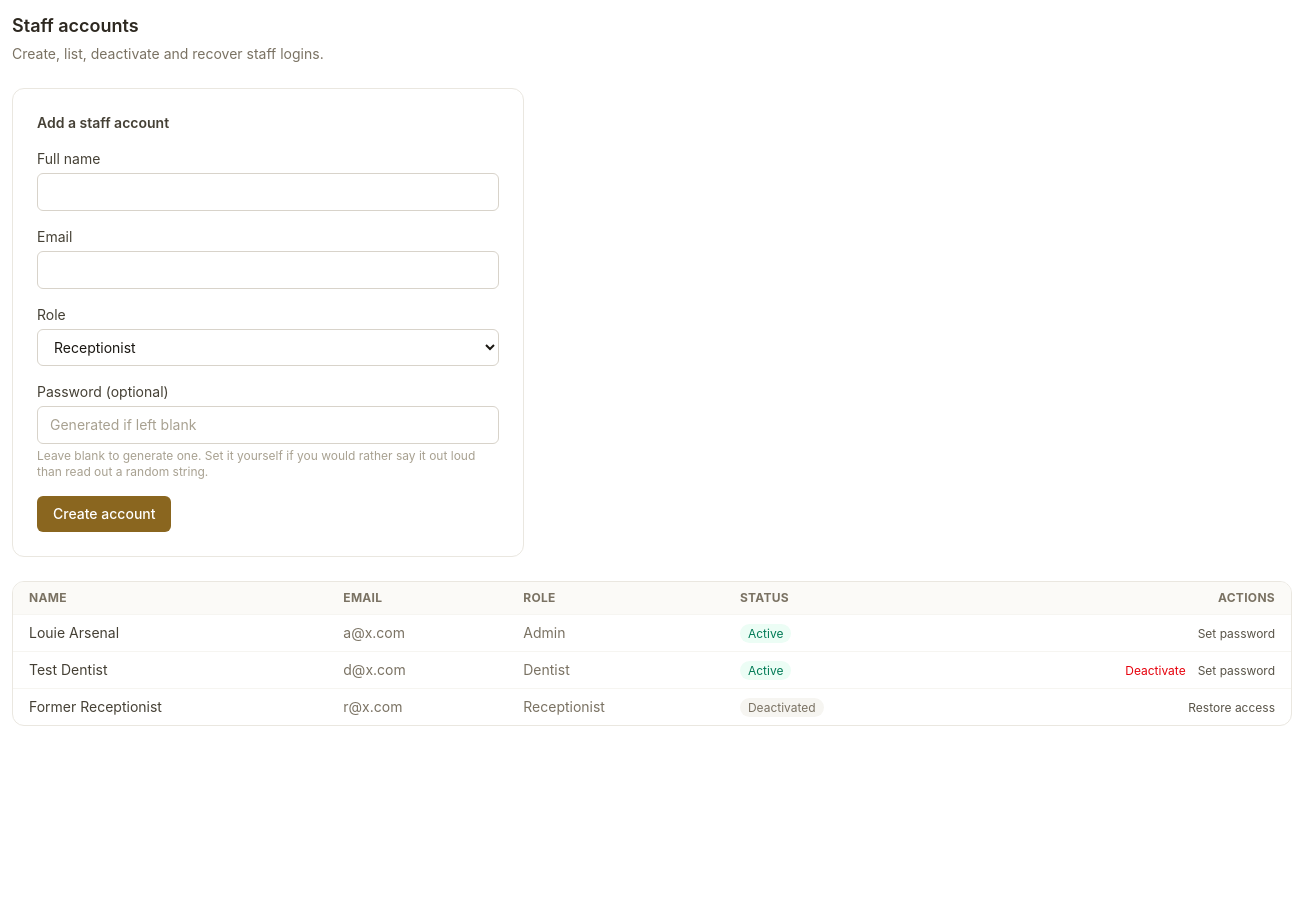
Test: StaffManagementPage › shows the temporary password once, with what to do with it
The image size is (1292, 912).
Check: the text "Test Dentist" is shown, box 13,652 -> 327,688
In the field labelled "Full name": (268,192) 37,173 -> 499,211, type "New Receptionist"
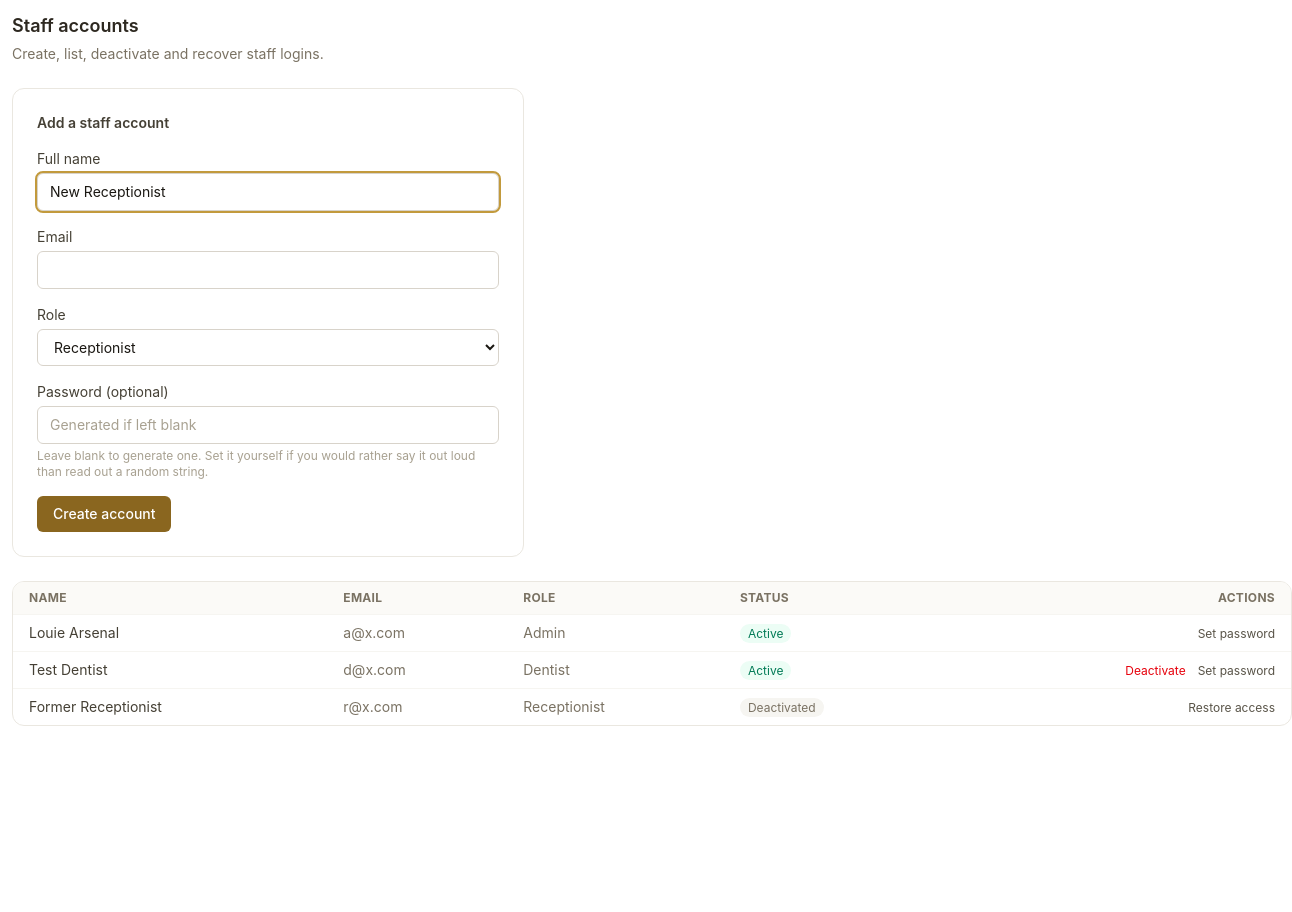
In the field labelled "Email": (268,270) 37,251 -> 499,289, type "new@x.com"
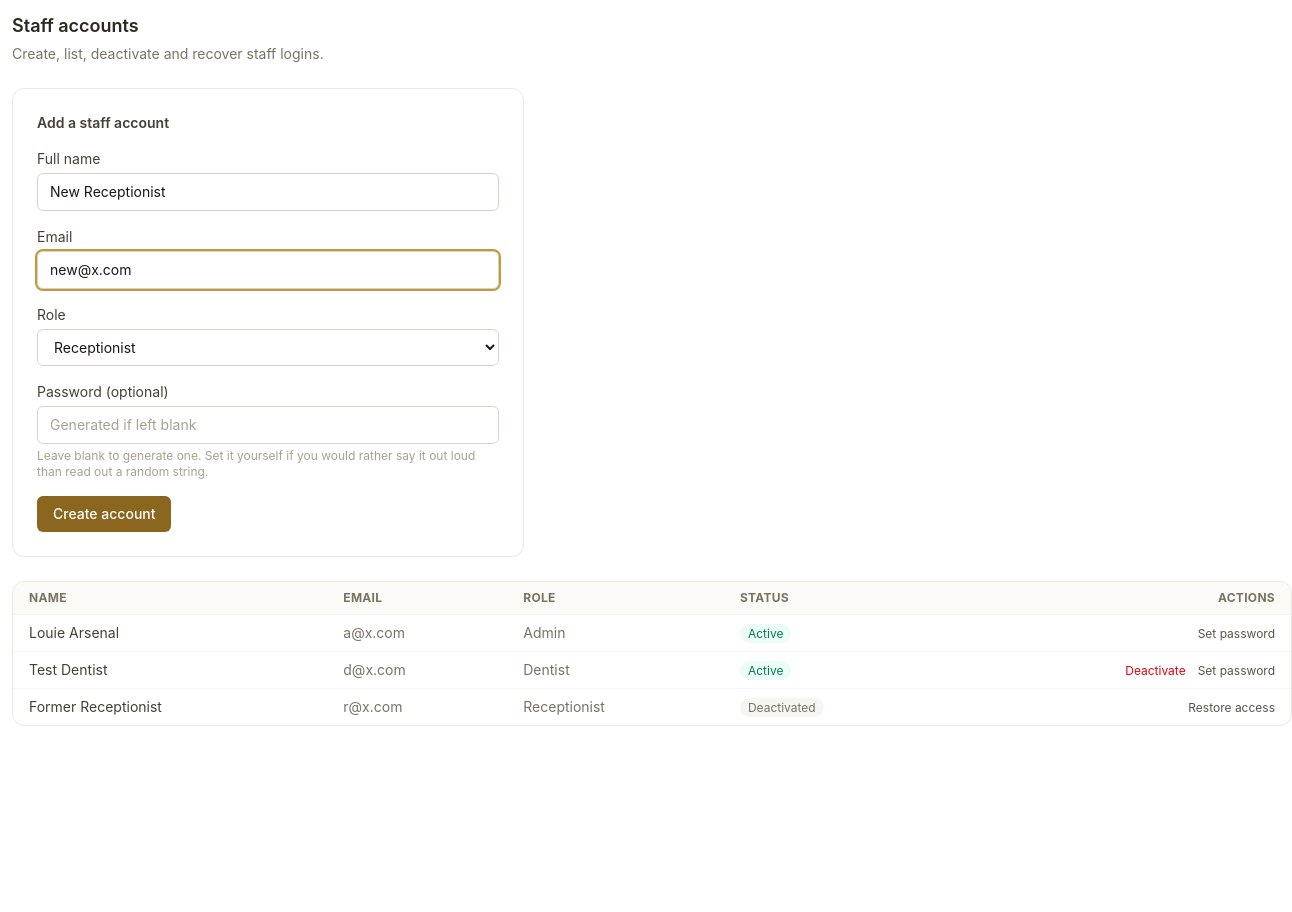
Click the button "Create account": (104,514) 37,496 -> 172,532
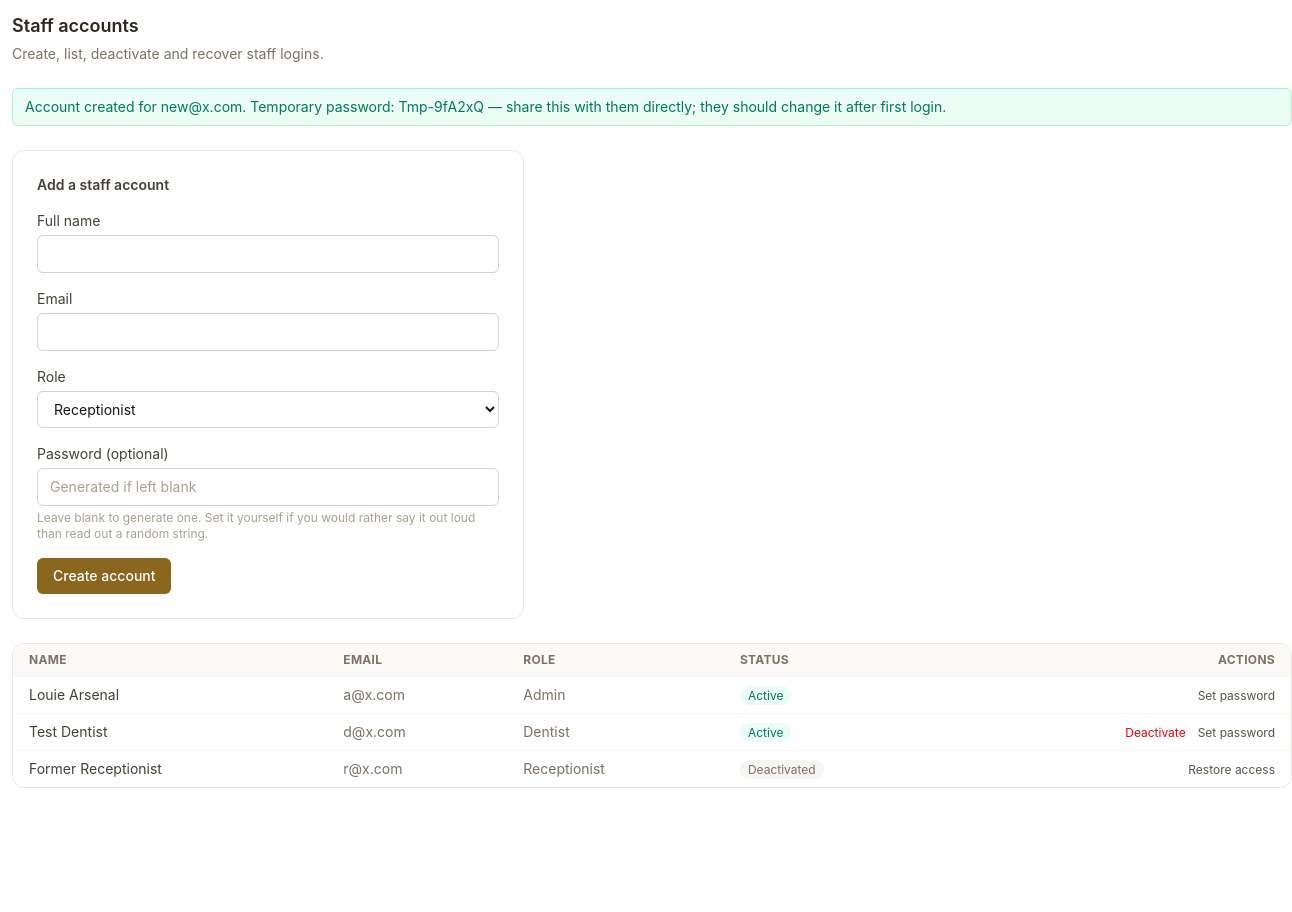
Check: the text "share this with them directly" is shown, box 25,98 -> 946,115
